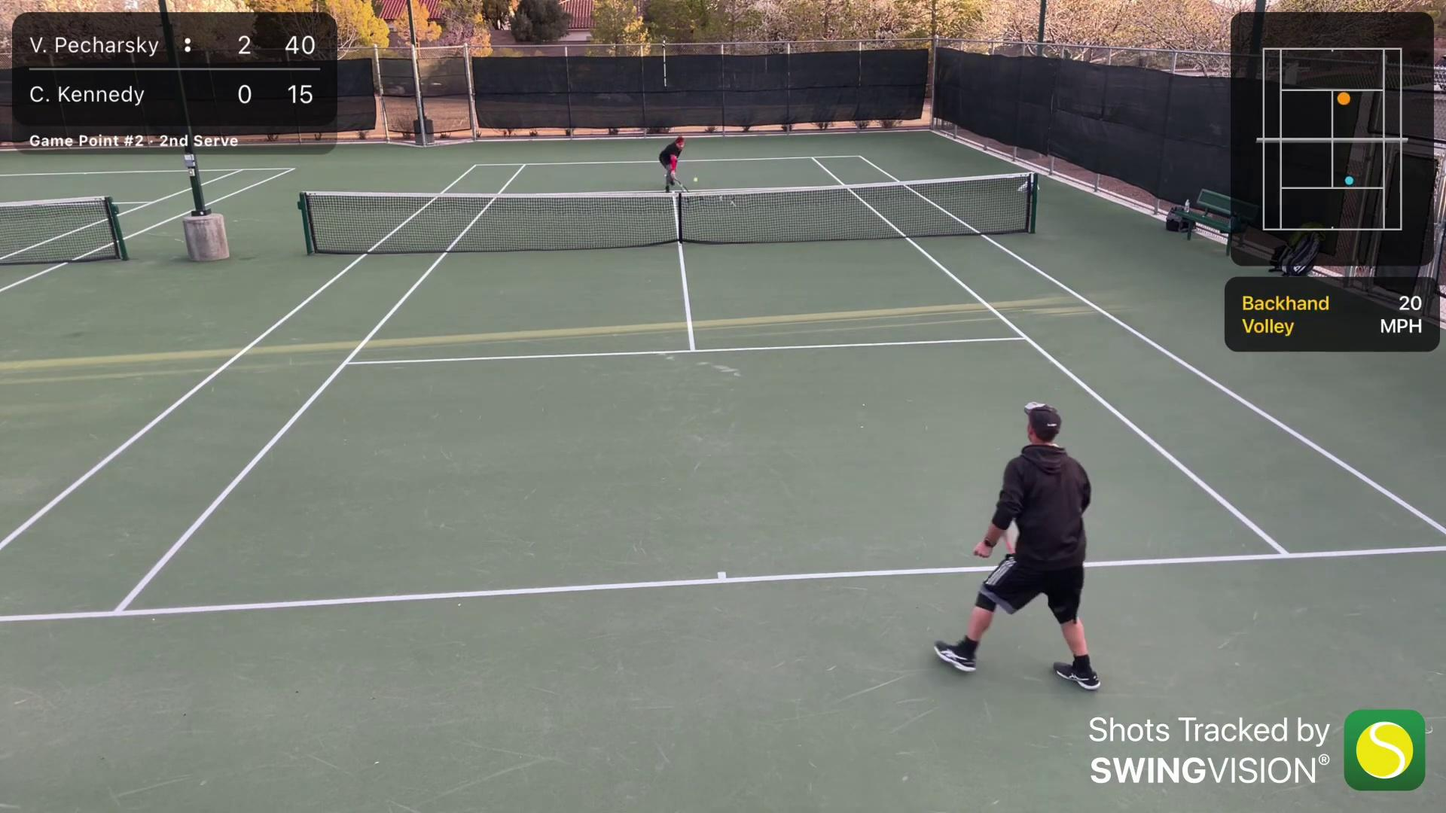ball: (694, 177, 699, 182)
